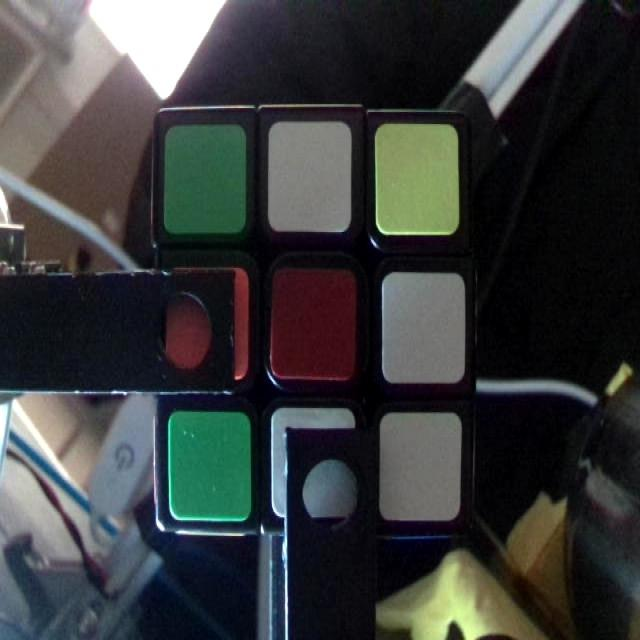g: (168, 414, 250, 522), (168, 128, 246, 232)
o: (163, 271, 249, 378)
r: (274, 273, 356, 383)
w: (383, 277, 465, 381), (272, 414, 353, 517), (384, 418, 461, 524), (270, 130, 350, 230)
y: (375, 128, 458, 235)
